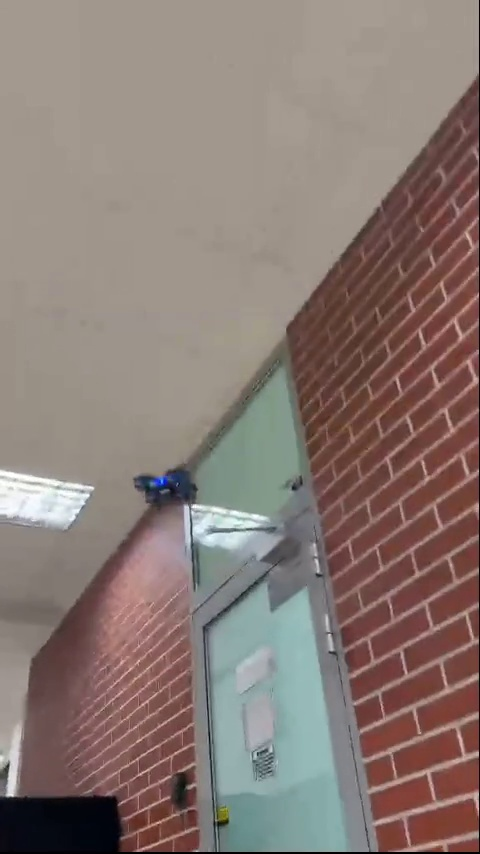drone: (134, 469, 194, 506)
